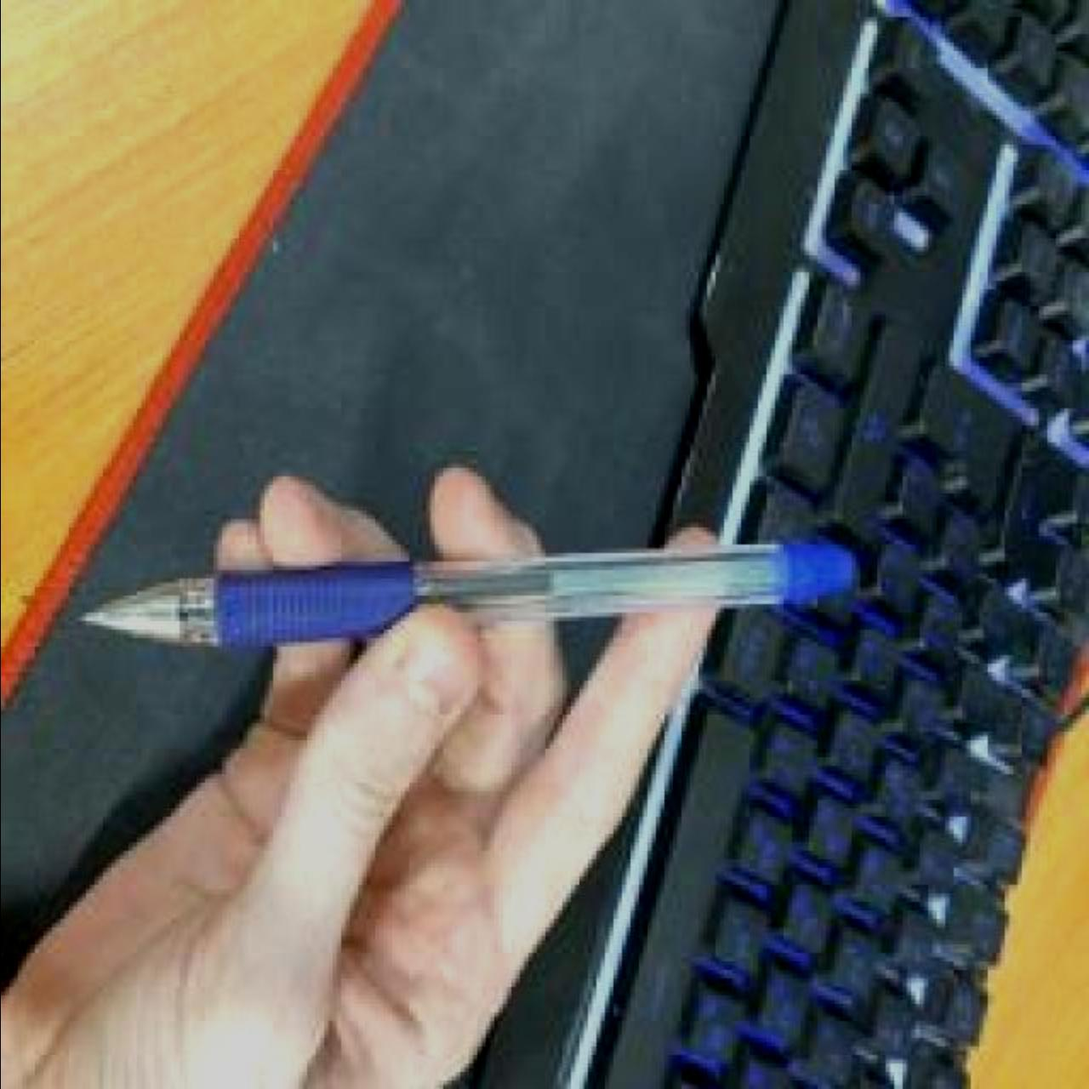pen: (80, 536, 851, 643)
